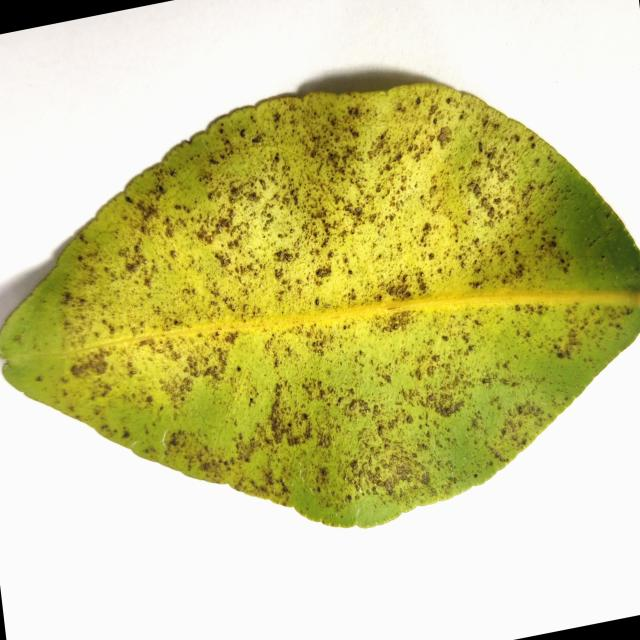melanose: (0, 84, 640, 526)
